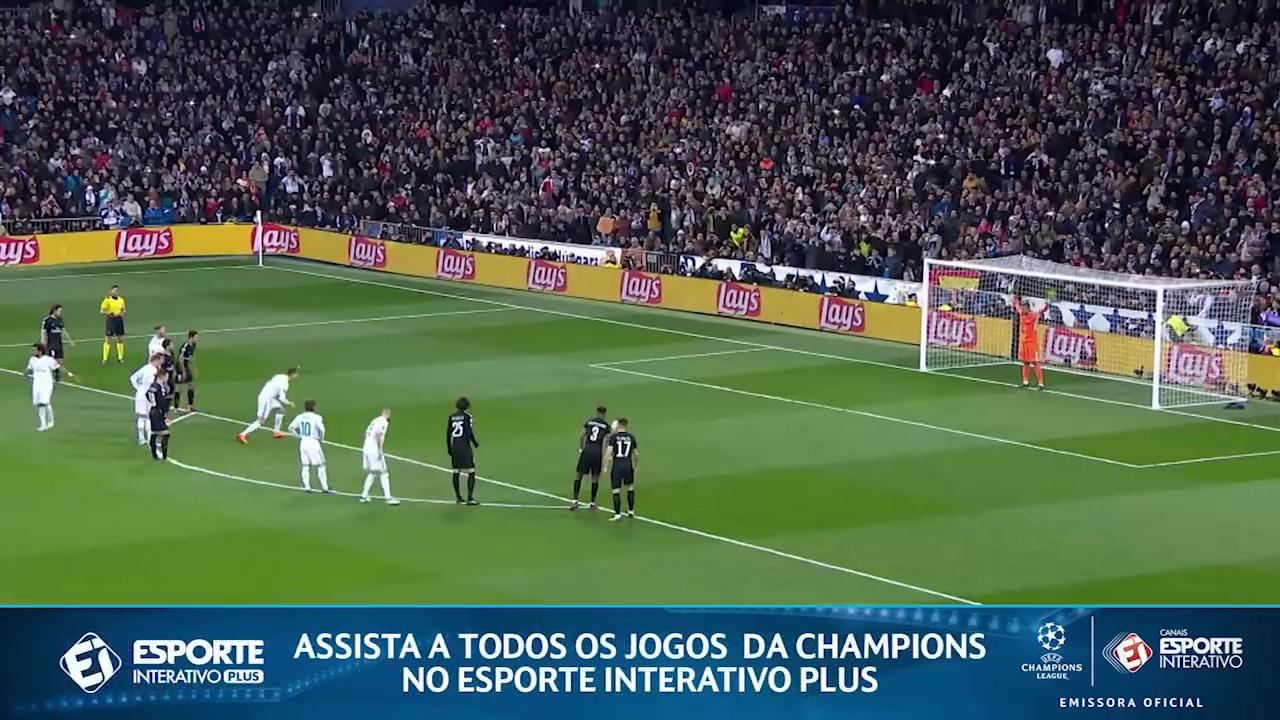football: (611, 420, 618, 431)
player: (238, 367, 297, 442), (570, 406, 609, 509), (288, 399, 331, 492), (360, 408, 399, 504), (446, 397, 478, 505), (1013, 296, 1048, 389), (605, 418, 637, 519), (129, 355, 162, 445), (27, 344, 60, 431), (146, 367, 171, 458), (39, 304, 69, 363), (177, 330, 198, 412), (160, 337, 176, 395), (147, 325, 166, 356)
referee: (100, 286, 125, 363)
